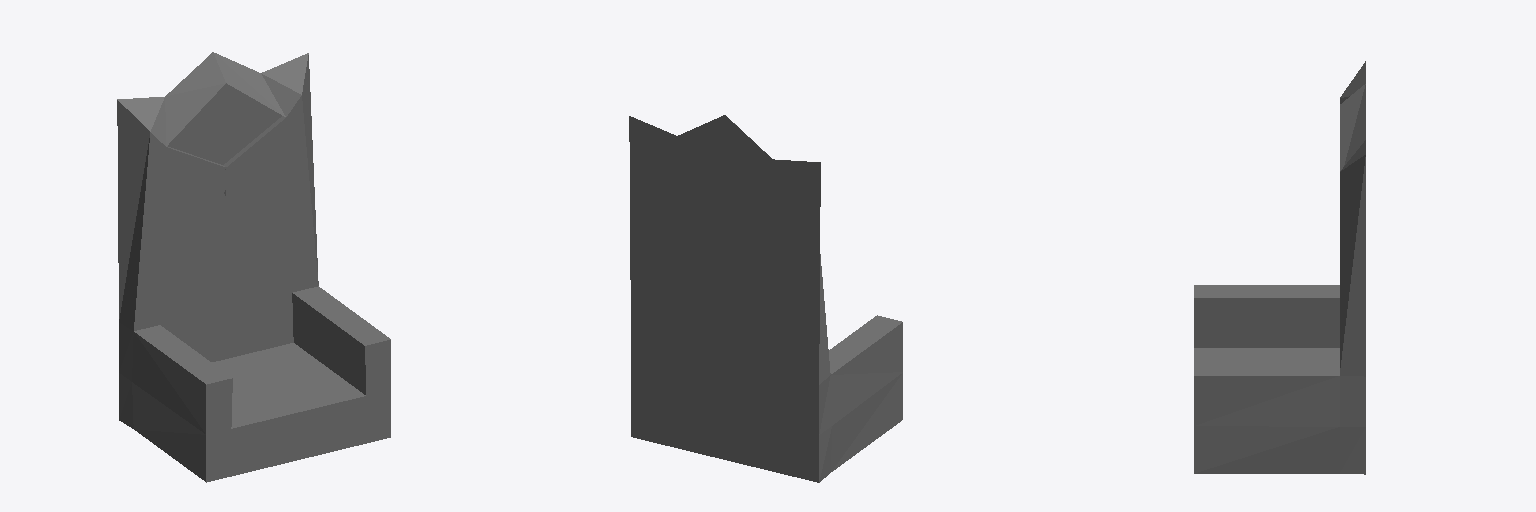
File: throne.obj
3 renders of one model, left to right at view 1: azimuth 30°, elevation 25°; view 2: azimuth 150°, elevation 25°; view 3: azimuth 270°, elevation 25°, orthographic.
Parts seen in each view (by area): view 1: pasted__throne group; view 2: pasted__throne group; view 3: pasted__throne group.
Boxes of the visible parts, x1=… form: pasted__throne group: x1=117, y1=52, x2=390, y2=482; pasted__throne group: x1=629, y1=115, x2=902, y2=482; pasted__throne group: x1=1194, y1=61, x2=1365, y2=474.
Bounding box in the file's own units: 12.19 × 21 × 9.47.